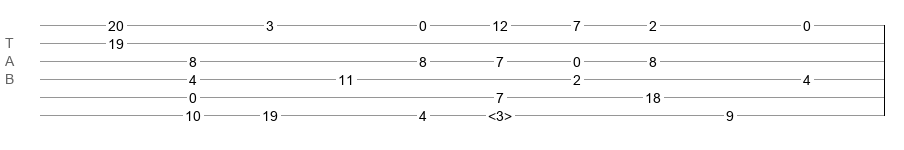0: (189, 90, 197, 100), (419, 18, 427, 28), (573, 54, 581, 64), (803, 18, 811, 28)
10: (185, 108, 201, 118)
11: (338, 72, 354, 82)
12: (492, 18, 508, 28)
18: (645, 90, 661, 100)
19: (108, 36, 124, 46), (262, 108, 278, 118)
2: (573, 72, 581, 82), (649, 18, 657, 28)
20: (108, 18, 124, 28)
3: (266, 18, 274, 28)
4: (189, 72, 197, 82), (419, 108, 427, 118), (803, 72, 811, 82)
7: (496, 90, 504, 100), (496, 54, 504, 64), (573, 18, 581, 28)
8: (189, 54, 197, 64), (419, 54, 427, 64), (649, 54, 657, 64)
9: (726, 108, 734, 118)
harmonic: (488, 108, 512, 118)
